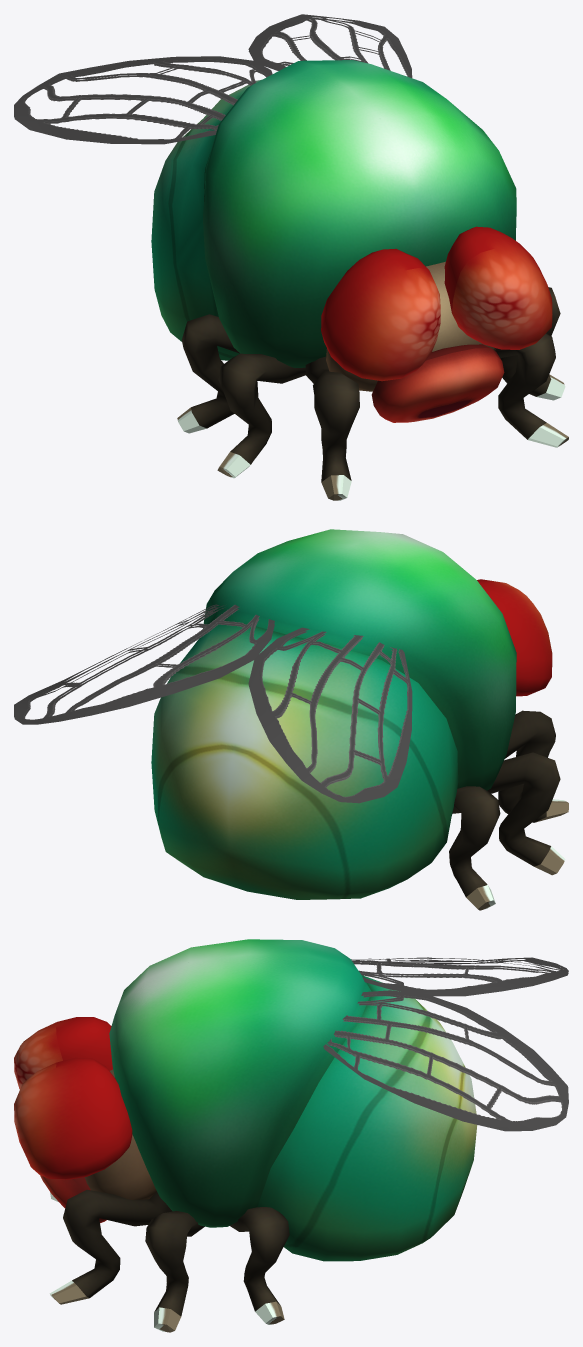
Rendered from ENV2010045.fbx.
The picture shows the model from 3 angles, top to bottom: view 1: azimuth 30°, elevation 25°; view 2: azimuth 150°, elevation 25°; view 3: azimuth 270°, elevation 25°; orthographic projection. The views are drawn at different scales.
Visible parts, largest first — view 1: smENV2010045; view 2: smENV2010045; view 3: smENV2010045.
Boxes of the visible parts, left/top/right/bottom form: smENV2010045: left=14, top=14, right=568, bottom=500; smENV2010045: left=14, top=529, right=568, bottom=910; smENV2010045: left=14, top=939, right=568, bottom=1332.
Bounding box in the file's own units: 11.69 × 9.61 × 15.95.
Materials: 1 (1 with a texture image).
